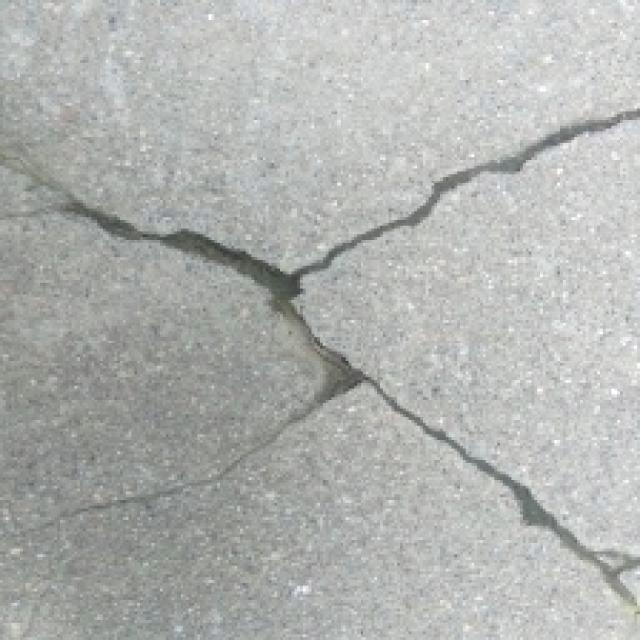crack: (4, 96, 640, 592)
